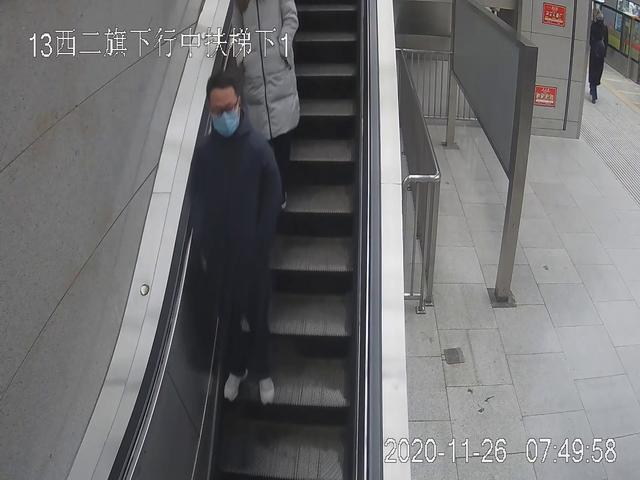person: (189, 75, 282, 404), (224, 1, 300, 214), (587, 9, 610, 103)
